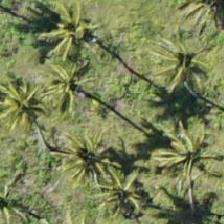coconut_tree: (26, 44, 116, 134), (129, 29, 219, 119), (32, 111, 122, 201), (135, 110, 223, 200), (25, 0, 115, 87), (73, 152, 163, 223), (0, 55, 59, 145)
